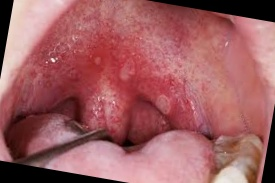Ulcer: (119, 54, 139, 79), (156, 97, 175, 115)
